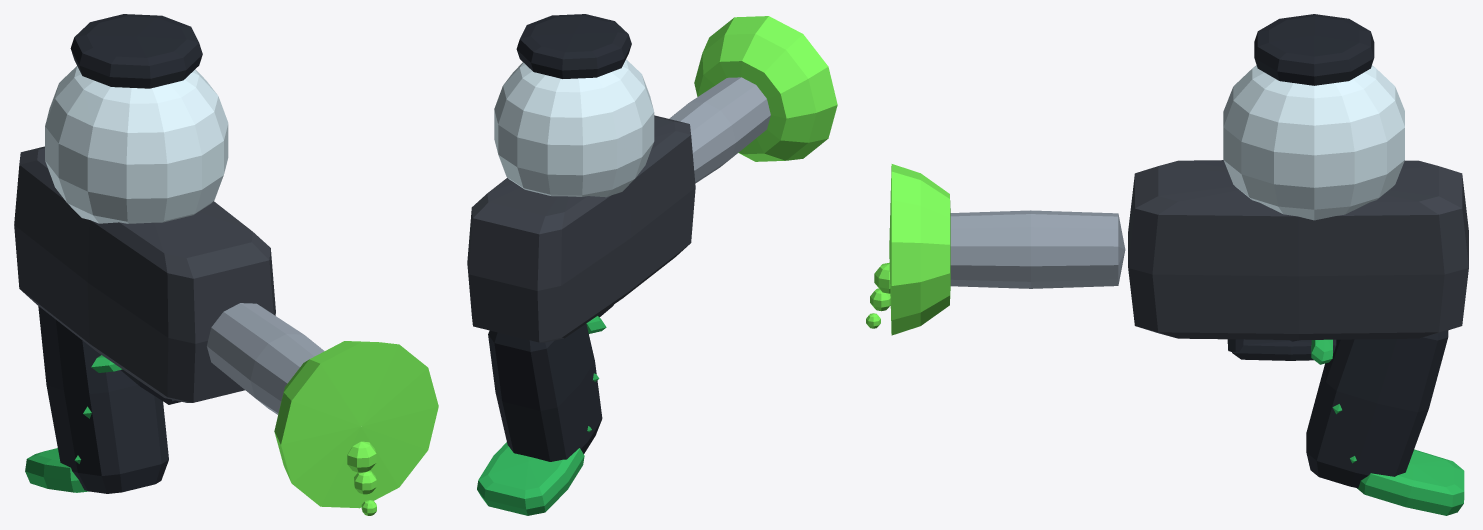
Rendered from g-x-sticky.glb.
The picture shows the model from 3 angles, left to right: view 1: azimuth 30°, elevation 25°; view 2: azimuth 150°, elevation 25°; view 3: azimuth 270°, elevation 25°; orthographic projection. The views are drawn at different scales.
Visible parts, largest first — view 1: gun; view 2: gun; view 3: gun.
Boxes of the visible parts, x1=… form: gun: x1=14, y1=14, x2=438, y2=515; gun: x1=467, y1=14, x2=837, y2=515; gun: x1=866, y1=14, x2=1468, y2=515.
Bounding box in the file's own units: 0.2193 × 0.6536 × 0.766.
